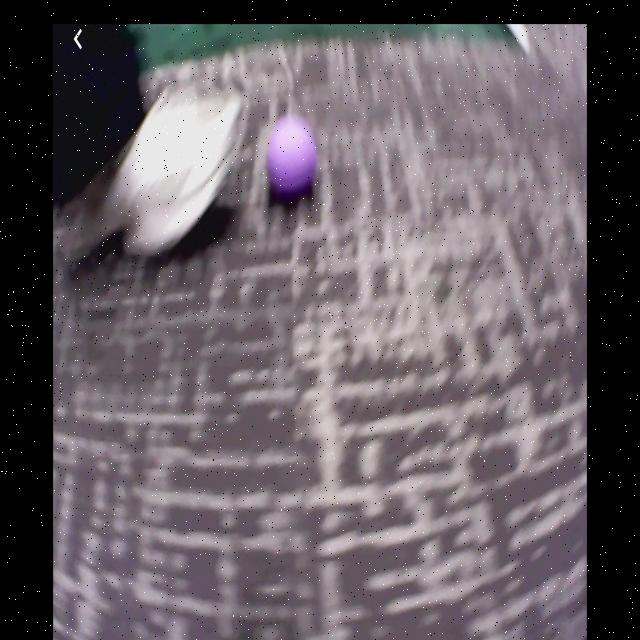ball: (268, 119, 316, 194)
